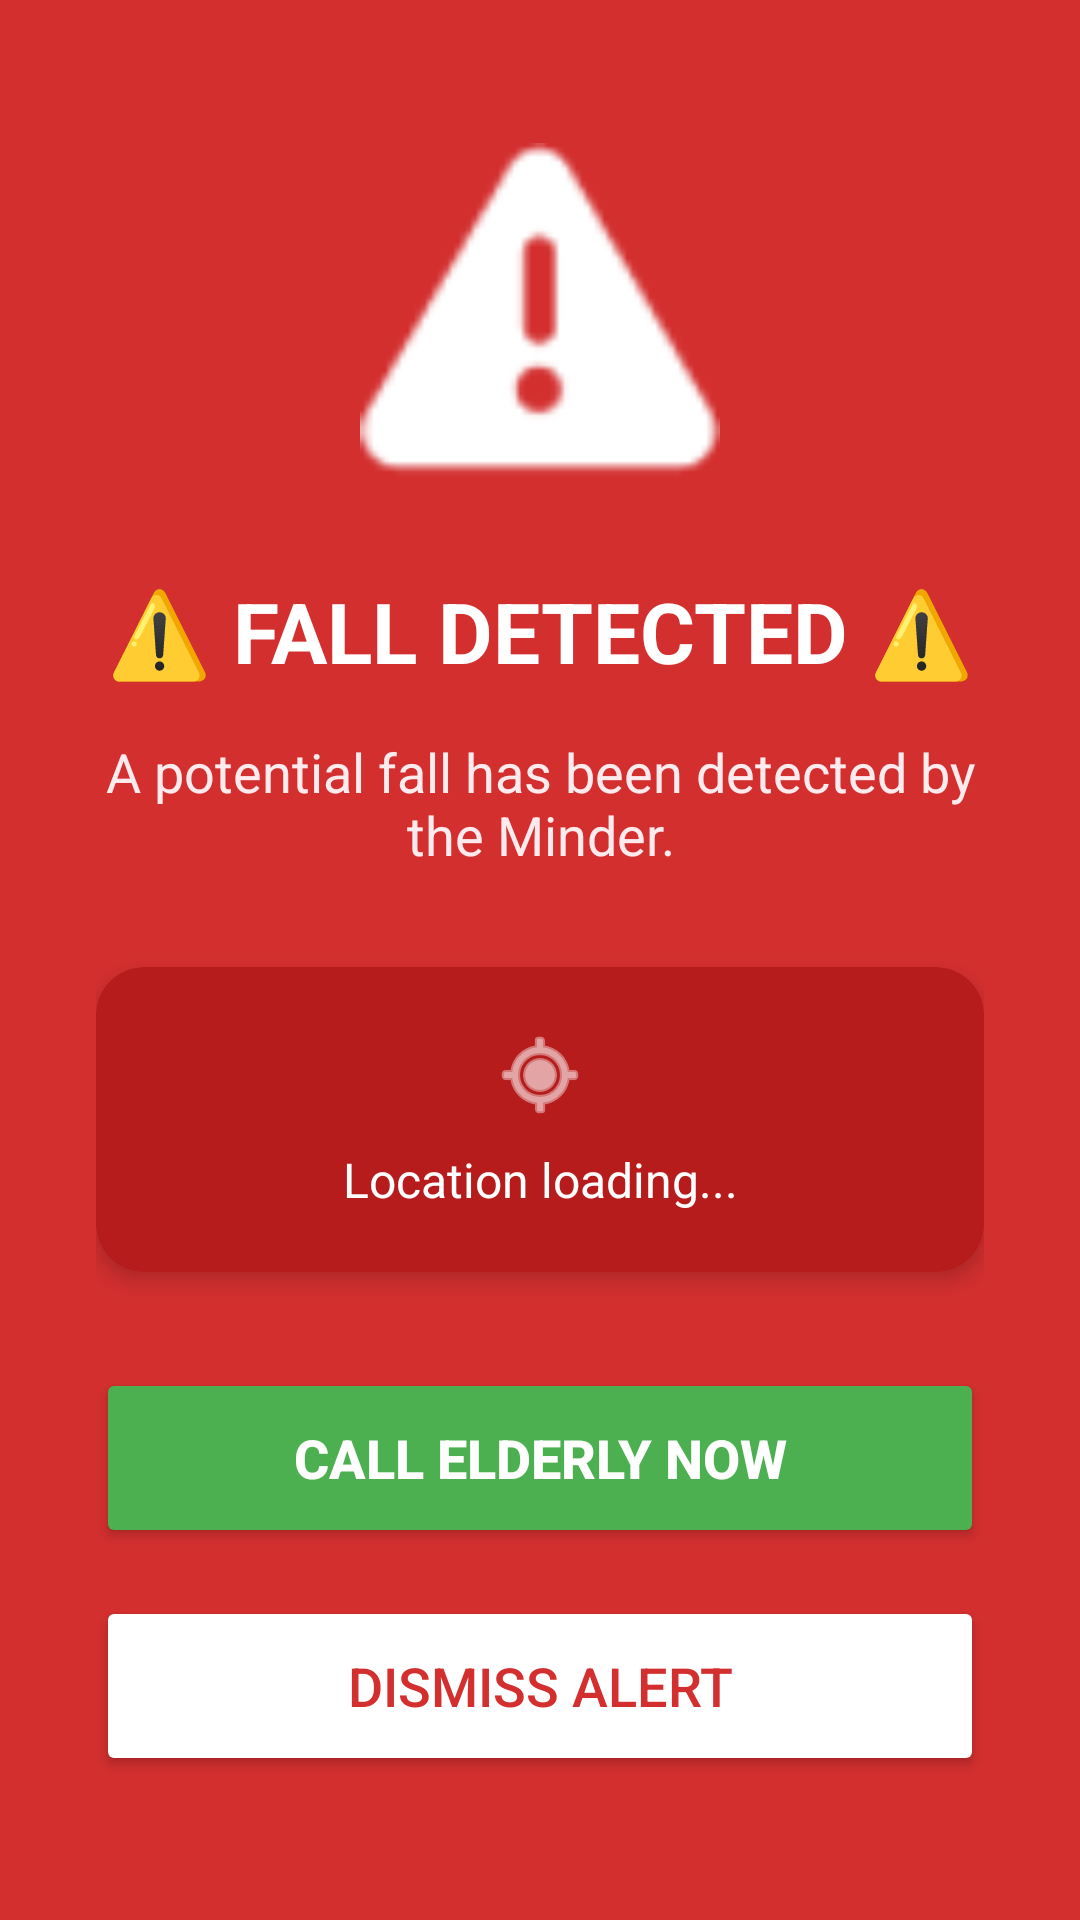

Where icons sit on this 1080×1920 app screen, as (x1, y1, x2, y2):
alert: (360, 143, 720, 472)
mylocation: (502, 1037, 578, 1113)
